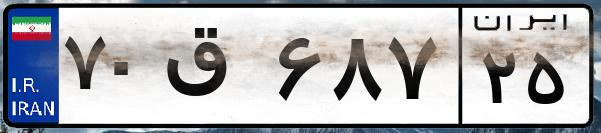0: (110, 28, 158, 98)
2: (475, 38, 525, 113)
5: (525, 38, 570, 115)
6: (270, 28, 330, 110)
7: (385, 28, 445, 110), (57, 26, 110, 100)
8: (330, 28, 385, 110)
ق: (158, 20, 270, 120)
